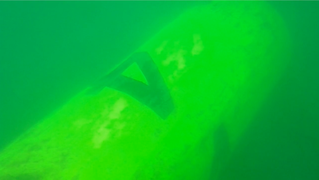4: (84, 50, 175, 120), (207, 122, 232, 180)
pipe: (1, 1, 294, 180)
